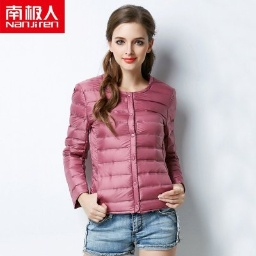face: (102, 5, 160, 85)
